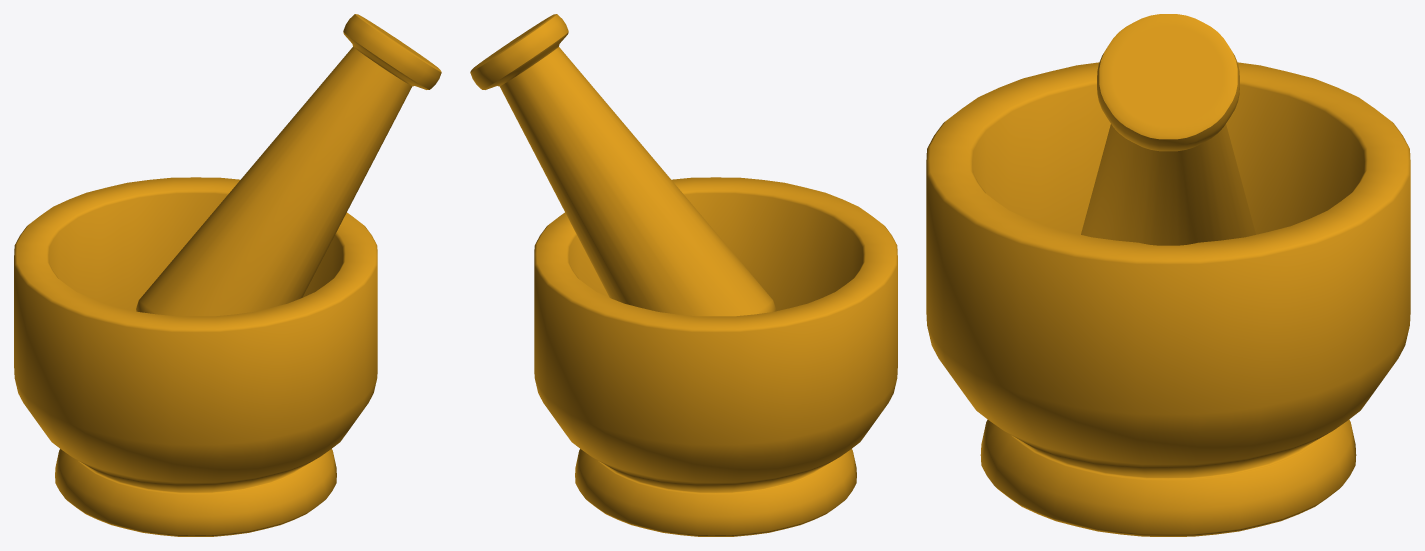
The model's file is Bowl6.fbx.
3 renders of one model, left to right at view 1: azimuth 30°, elevation 25°; view 2: azimuth 150°, elevation 25°; view 3: azimuth 270°, elevation 25°, orthographic. The views are drawn at different scales.
Parts seen in each view (by area): view 1: Bowl6, Pestle6; view 2: Bowl6, Pestle6; view 3: Bowl6, Pestle6.
Part boxes in pixels (box(x1,y1,x2,y2)): Bowl6: box(14, 177, 377, 536); Pestle6: box(136, 14, 441, 316); Bowl6: box(534, 177, 897, 536); Pestle6: box(470, 14, 775, 316); Bowl6: box(926, 62, 1410, 536); Pestle6: box(1081, 14, 1255, 245).
Size of the model in its own units: 448 by 452 by 358.
